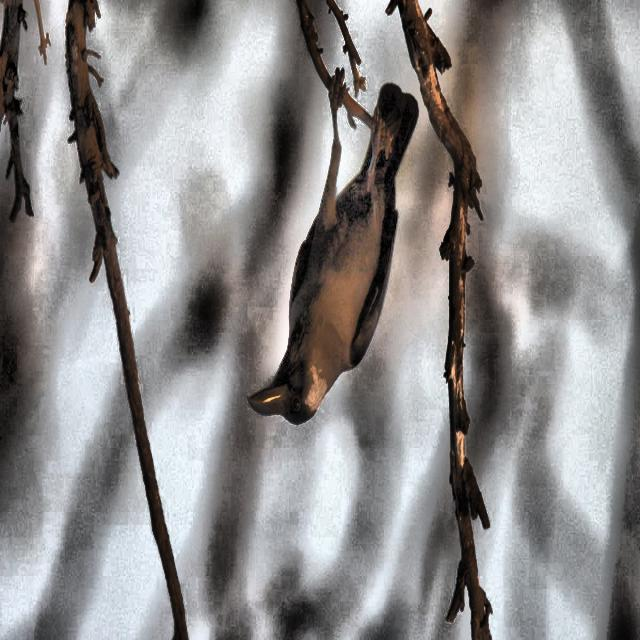crow: (247, 54, 437, 482)
